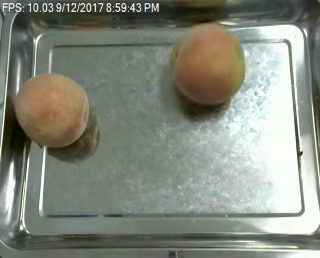Peach: (170, 22, 246, 105), (13, 72, 90, 148)
